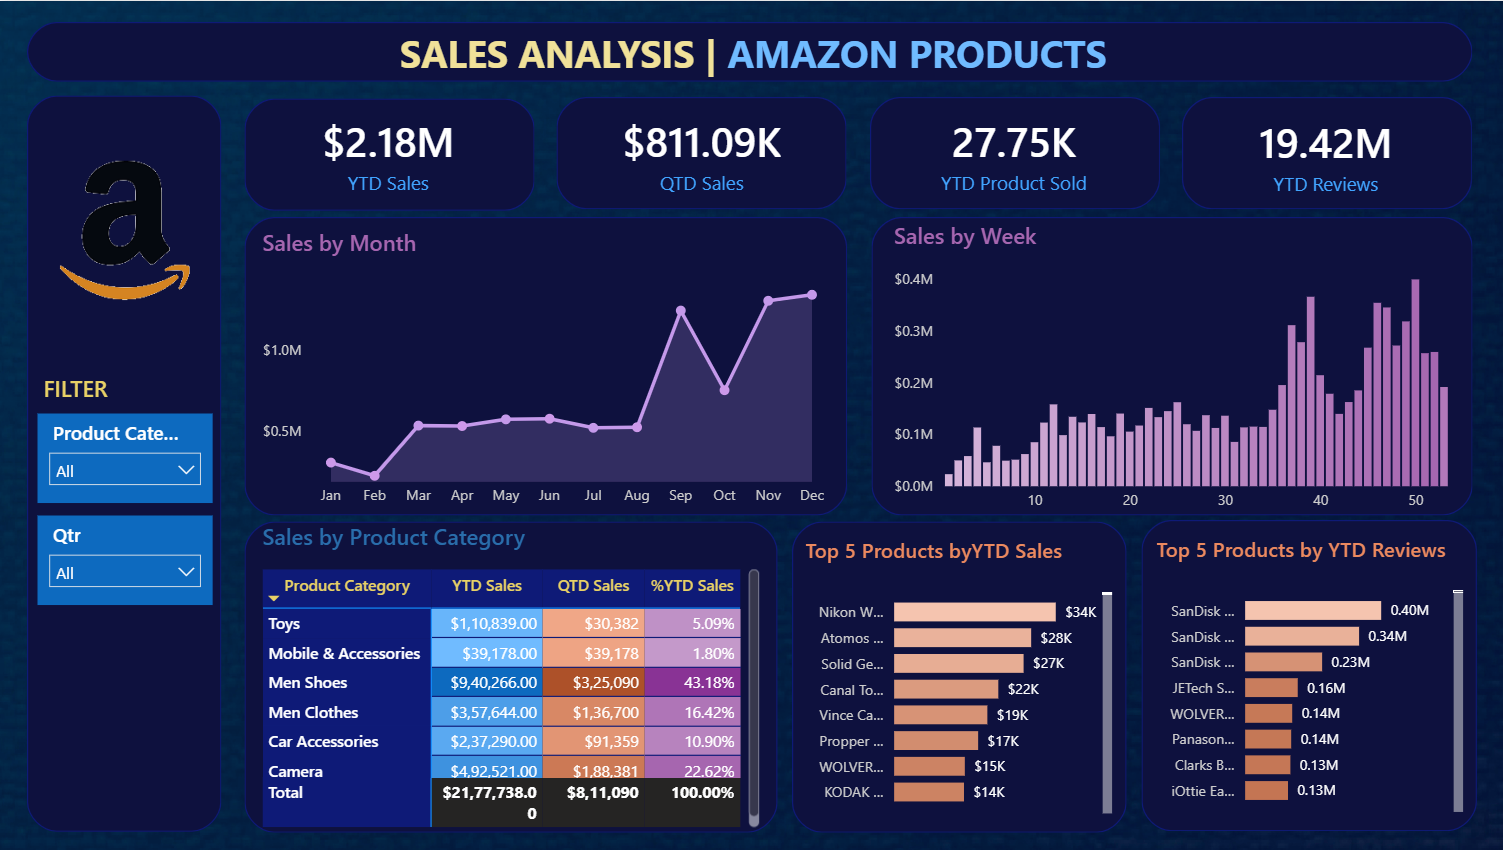

Layout of this report page (visuals, bound fields, positions):
{"tool":"powerbi","page":{"name":"Page 1","canvas":[1280,720],"ordinal":0},"visuals":[{"type":"shape","box":[22.9,18.1,1227,50.7],"z":0},{"type":"textbox","box":[328,16.5,621.6,54.9],"z":1000},{"type":"shape","box":[472.9,80.8,246.3,95.3],"z":1000,"group":"g1"},{"type":"shape","box":[22.9,80.8,165,625],"z":2000},{"type":"shape","box":[207.5,82,246.3,95.3],"z":3000,"group":"g1"},{"type":"shape","box":[207.5,183.4,511.5,253.4],"z":3000},{"type":"areaChart","title":"Sales by Month","fields":{"Category":["Date Table.Month Name"],"Y":["Sum(Amazon_Data.Price(Dollar))"]},"box":[217.2,191.8,491,244.9],"z":4000},{"type":"cardVisual","fields":{"Data":["Amazon_Data.YTD Sales"]},"box":[226.5,77.2,207,105],"z":5000,"group":"g1"},{"type":"shape","box":[739.5,183.4,510.3,253.4],"z":5000},{"type":"group","id":"g1","title":"Group 1","box":[207.5,77.2,1042.4,106.2],"z":6000},{"type":"cardVisual","fields":{"Data":["Amazon_Data.QTD Sales"]},"box":[493.2,77.2,207,105],"z":6000,"group":"g1"},{"type":"shape","box":[738.2,80.8,246.3,95.3],"z":7000,"group":"g1"},{"type":"clusteredColumnChart","title":"Sales by Week","fields":{"Category":["Date Table.Week"],"Y":["Sum(Amazon_Data.Price(Dollar))"]},"box":[754,185.8,500,256],"z":7000},{"type":"shape","box":[207.5,441.6,452.4,264.2],"z":8000},{"type":"shape","box":[1003.6,80.8,246.3,95.3],"z":9000,"group":"g1"},{"type":"pivotTable","title":"Sales by Product Category","fields":{"Rows":["Amazon_Data.Product Category"],"Values":["Amazon_Data.YTD Sales1","Amazon_Data.QTD Sales","Amazon_Data.YTD Sales"]},"box":[217.2,441.6,431.9,264.2],"z":9000},{"type":"cardVisual","fields":{"Data":["Amazon_Data.YTD Product Sold"]},"box":[757.3,77.2,207,105],"z":10000,"group":"g1"},{"type":"shape","box":[672,441.6,284,264.2],"z":10000},{"type":"cardVisual","fields":{"Data":["Amazon_Data.YTD Reviews"]},"box":[1022.6,78.4,207,105],"z":11000,"group":"g1"},{"type":"clusteredBarChart","title":"Top 5 Products byYTD Sales","fields":{"Y":["Amazon_Data.YTD Sales"],"Category":["Amazon_Data.Product Description"]},"box":[679.2,454.8,270,240.1],"z":11000},{"type":"shape","box":[968.8,440.4,284.7,264.2],"z":12000},{"type":"clusteredBarChart","title":"Top 5 Products by YTD Reviews","fields":{"Y":["Amazon_Data.YTD Reviews"],"Category":["Amazon_Data.Product Description"]},"box":[976,453.6,270,240.1],"z":13000},{"type":"slicer","fields":{"Values":["Amazon_Data.Product Category"]},"box":[31.4,349.9,148.4,76],"z":14000},{"type":"slicer","fields":{"Values":["Date Table.Qtr"]},"box":[31.4,436.7,148.4,76],"z":15000},{"type":"image","box":[22.9,82,165.3,228],"z":16000},{"type":"textbox","box":[31.4,310.1,94.1,39.8],"z":17000}]}

Visuals, with their boxes in screenshot pixels (x1, y1, x2, y2), scaled from the page's 1280x720 canvas onto the 1503x850 screenshot:
shape: [27, 21, 1468, 81]
textbox: [385, 19, 1115, 84]
shape: [555, 95, 844, 208]
shape: [27, 95, 221, 833]
shape: [244, 97, 533, 209]
shape: [244, 217, 844, 516]
"Sales by Month" areaChart: [255, 226, 832, 516]
cardVisual - Amazon_Data.YTD Sales: [266, 91, 509, 215]
shape: [868, 217, 1468, 516]
"Group 1" group: [244, 91, 1468, 217]
cardVisual - Amazon_Data.QTD Sales: [579, 91, 822, 215]
shape: [867, 95, 1156, 208]
"Sales by Week" clusteredColumnChart: [885, 219, 1472, 522]
shape: [244, 521, 775, 833]
shape: [1178, 95, 1468, 208]
"Sales by Product Category" pivotTable: [255, 521, 762, 833]
cardVisual - Amazon_Data.YTD Product Sold: [889, 91, 1132, 215]
shape: [789, 521, 1123, 833]
cardVisual - Amazon_Data.YTD Reviews: [1201, 93, 1444, 217]
"Top 5 Products byYTD Sales" clusteredBarChart: [798, 537, 1115, 820]
shape: [1138, 520, 1472, 832]
"Top 5 Products by YTD Reviews" clusteredBarChart: [1146, 536, 1463, 819]
slicer - Amazon_Data.Product Category: [37, 413, 211, 503]
slicer - Date Table.Qtr: [37, 516, 211, 605]
image: [27, 97, 221, 366]
textbox: [37, 366, 147, 413]
